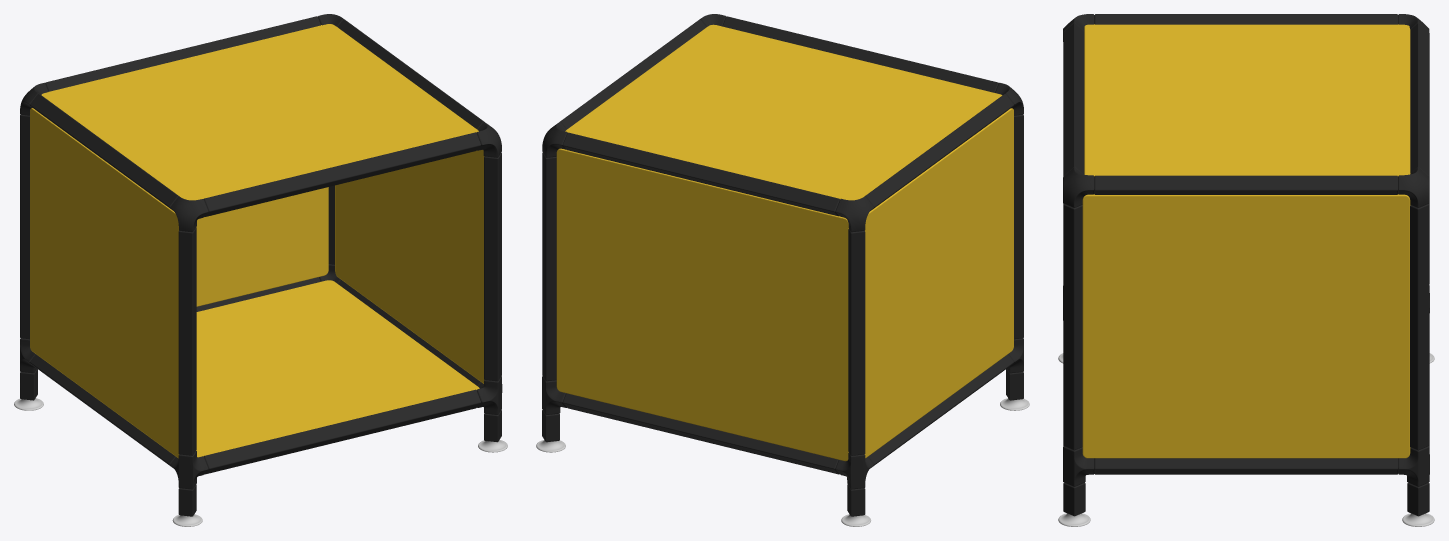
3 views of the same model, side by side, from view 1: azimuth 30°, elevation 25°; view 2: azimuth 150°, elevation 25°; view 3: azimuth 270°, elevation 25° (orthographic). The views are drawn at different scales.
Parts seen in each view (by area): view 1: 420x374x330; view 2: 420x374x330; view 3: 420x374x330.
Part boxes in pixels (left/top/right/bottom): 420x374x330: left=14, top=14, right=507, bottom=526; 420x374x330: left=536, top=14, right=1029, bottom=526; 420x374x330: left=1058, top=14, right=1434, bottom=526.
Size of the model in its own units: 0.5099 by 0.4683 by 0.4632.
